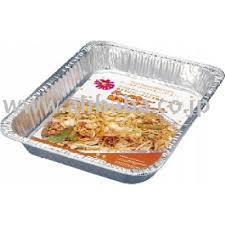metal: (0, 39, 224, 184)
